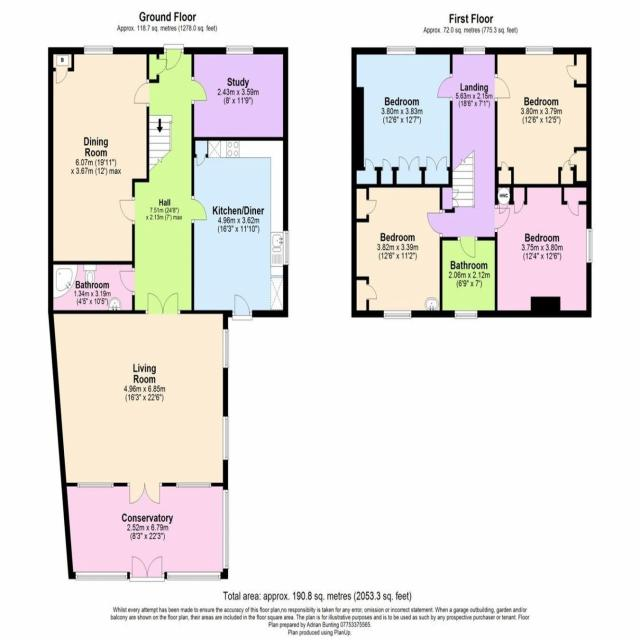DOOR: (232, 294, 253, 321), (133, 78, 150, 108), (456, 236, 478, 259), (494, 204, 511, 233), (494, 73, 511, 102), (437, 73, 453, 102), (191, 195, 207, 224), (119, 267, 135, 296), (119, 196, 135, 225), (191, 76, 207, 105), (427, 209, 443, 238)
DOUBLE DOOR: (128, 554, 166, 584), (126, 482, 164, 506), (146, 291, 180, 316)
ROOM: (47, 290, 231, 507), (48, 45, 149, 265), (191, 137, 289, 321), (351, 46, 453, 188), (495, 46, 592, 188), (495, 183, 592, 318), (351, 184, 443, 319), (191, 47, 288, 141)
WINDOW: (73, 570, 129, 582), (222, 488, 230, 571), (165, 570, 221, 580), (175, 479, 213, 492), (222, 414, 230, 463), (222, 328, 230, 370), (83, 45, 113, 55), (585, 227, 593, 264), (226, 45, 254, 55), (386, 46, 416, 55), (76, 482, 114, 489), (454, 309, 478, 320), (383, 310, 412, 319), (525, 46, 554, 55), (283, 230, 290, 266), (463, 46, 486, 55)
